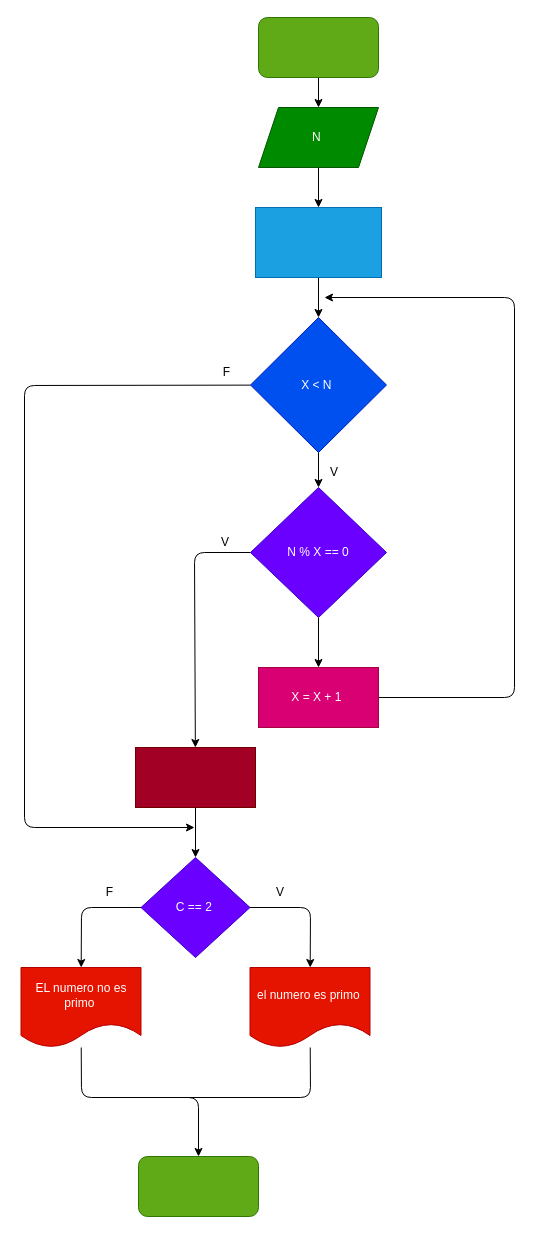
Image size: 540x1234. Some labels were removed from this diagram. The shapes that lost their labels are listed below. From the top down, each one's centre as x and y in pixels, then its label:
the point at 318,47: INICIO
the point at 318,242: X = 1 C = 0
the point at 195,777: C = C +1
the point at 198,1186: FIN
